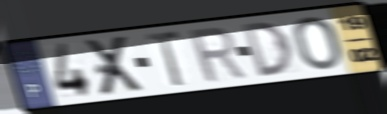4: (54, 41, 93, 100)
D: (240, 19, 295, 79)
O: (291, 14, 344, 72)
R: (186, 24, 250, 85)
T: (144, 29, 187, 90)
X: (84, 33, 147, 98)
